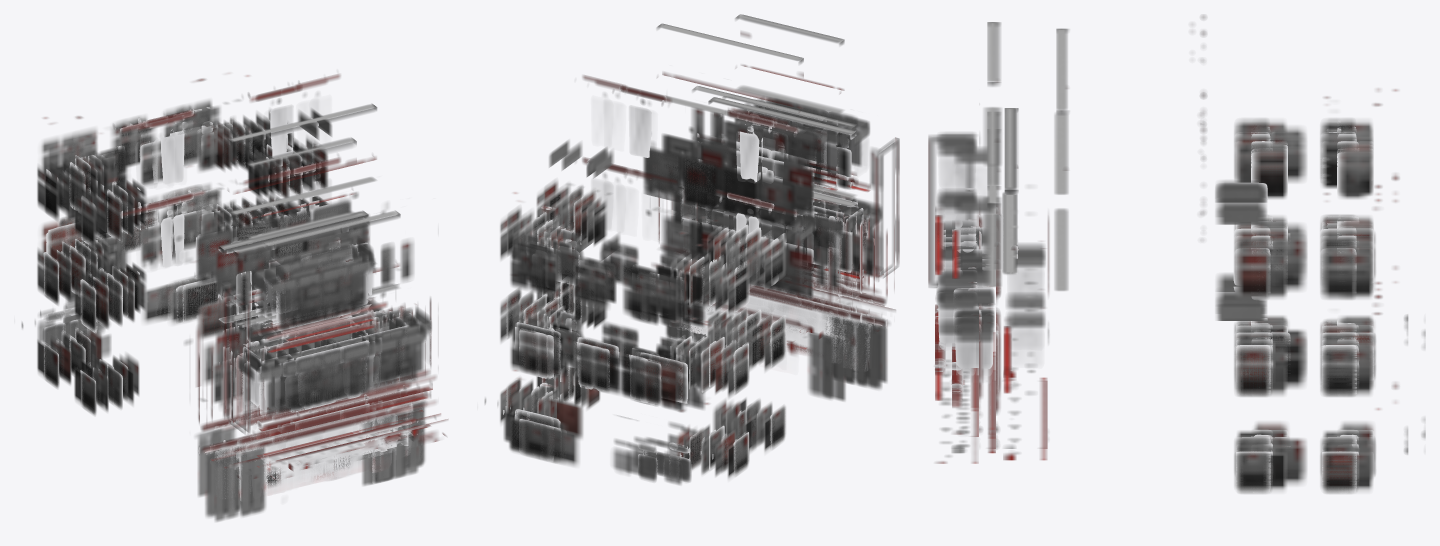
Rendered from shophouse_far-DDnlgRSB.glb.
The picture shows the model from 3 angles, left to right: view 1: azimuth 30°, elevation 25°; view 2: azimuth 150°, elevation 25°; view 3: azimuth 270°, elevation 25°; orthographic projection. The views are drawn at different scales.
Visible parts, largest first — view 1: far_7bf326b6, far_8bd200fa, far_e0148647, far_9dec6db6, far_308a855d, far_aadfe4cc, far_3253f188, far_6fca23a8, far_5667867b, far_ab5ad362, far_914a8a0c, far_23387537 (+12 smaller); view 2: far_7bf326b6, far_8bd200fa, far_308a855d, far_5667867b, far_23387537, far_9dec6db6, far_9edcfd80, far_914a8a0c, far_e0148647, far_ab5ad362, far_3253f188, far_6fca23a8 (+12 smaller); view 3: far_8bd200fa, far_5667867b, far_23387537, far_7bf326b6, far_aadfe4cc, far_914a8a0c, far_ab5ad362, far_308a855d, far_e0148647, far_3253f188, far_9dec6db6, far_63bc59c3 (+12 smaller).
Part boxes in pixels (left/top/right/bottom): far_7bf326b6: left=37, top=99, right=448, bottom=521; far_8bd200fa: left=57, top=104, right=383, bottom=496; far_e0148647: left=73, top=79, right=393, bottom=487; far_9dec6db6: left=50, top=72, right=425, bottom=477; far_308a855d: left=90, top=112, right=351, bottom=454; far_aadfe4cc: left=22, top=159, right=425, bottom=465; far_3253f188: left=75, top=79, right=394, bottom=482; far_6fca23a8: left=40, top=180, right=427, bottom=516; far_5667867b: left=44, top=106, right=440, bottom=517; far_ab5ad362: left=82, top=80, right=382, bottom=483; far_914a8a0c: left=70, top=100, right=419, bottom=508; far_23387537: left=44, top=74, right=431, bottom=468; far_7bf326b6: left=500, top=98, right=899, bottom=484; far_8bd200fa: left=541, top=23, right=852, bottom=459; far_308a855d: left=551, top=108, right=833, bottom=454; far_5667867b: left=507, top=117, right=887, bottom=476; far_23387537: left=503, top=75, right=895, bottom=472; far_9dec6db6: left=509, top=81, right=881, bottom=476; far_9edcfd80: left=485, top=201, right=881, bottom=480; far_914a8a0c: left=532, top=112, right=862, bottom=467; far_e0148647: left=536, top=14, right=858, bottom=474; far_ab5ad362: left=541, top=89, right=850, bottom=462; far_3253f188: left=538, top=86, right=857, bottom=469; far_6fca23a8: left=503, top=195, right=869, bottom=480; far_8bd200fa: left=1003, top=28, right=1356, bottom=485; far_5667867b: left=952, top=88, right=1380, bottom=490; far_23387537: left=955, top=120, right=1381, bottom=489; far_7bf326b6: left=928, top=89, right=1398, bottom=491; far_aadfe4cc: left=953, top=108, right=1407, bottom=492; far_914a8a0c: left=952, top=104, right=1381, bottom=449; far_ab5ad362: left=941, top=122, right=1397, bottom=432; far_308a855d: left=1004, top=104, right=1356, bottom=473; far_e0148647: left=935, top=22, right=1398, bottom=440; far_3253f188: left=935, top=142, right=1397, bottom=437; far_9dec6db6: left=935, top=100, right=1397, bottom=480; far_63bc59c3: left=952, top=103, right=1377, bottom=452.
Bounding box in the file's own units: 9 × 13.03 × 14.47.
Materials: 1 (1 with a texture image).
